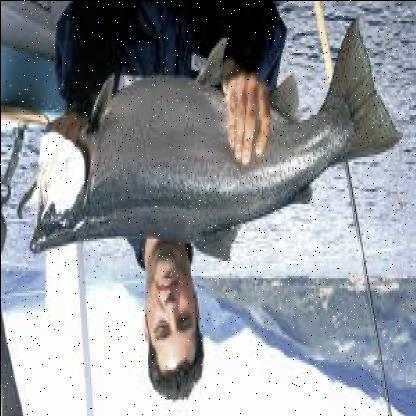fish: (16, 27, 398, 264)
